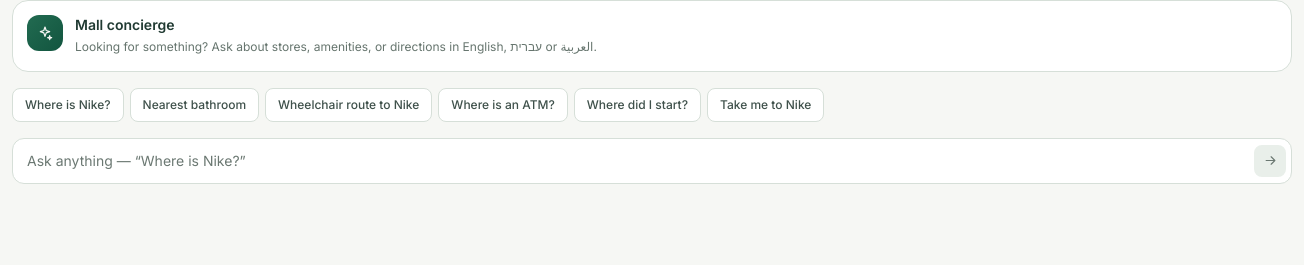
Test: AssistantPanel › applies a show_route action from the assistant response
The width and height of the screenshot is (1304, 265).
In the field with test id "assistant-input": [652, 160] box [12,138,1292,184], type "Take me to Nike"
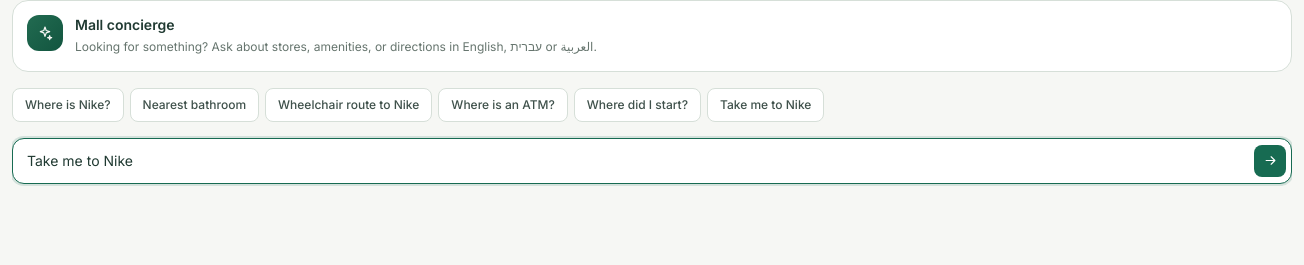
Click the button with test id "assistant-submit": [1270, 160] box [1254,144,1286,176]
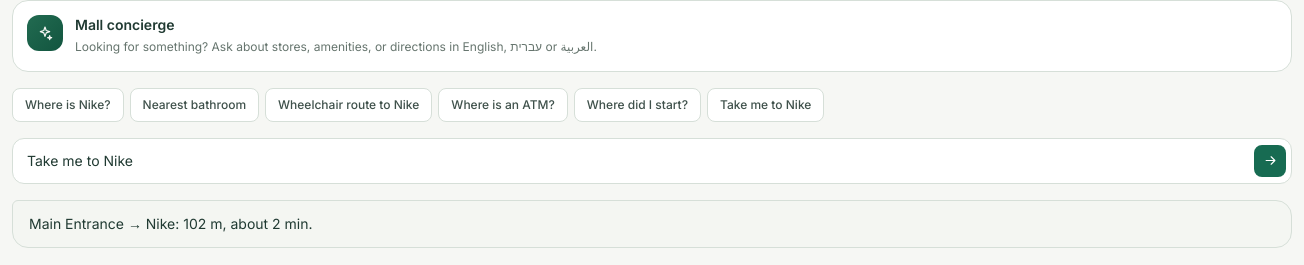
Expected: the message with test id "assistant-answer" shows "102 m", [29,214,313,232]
